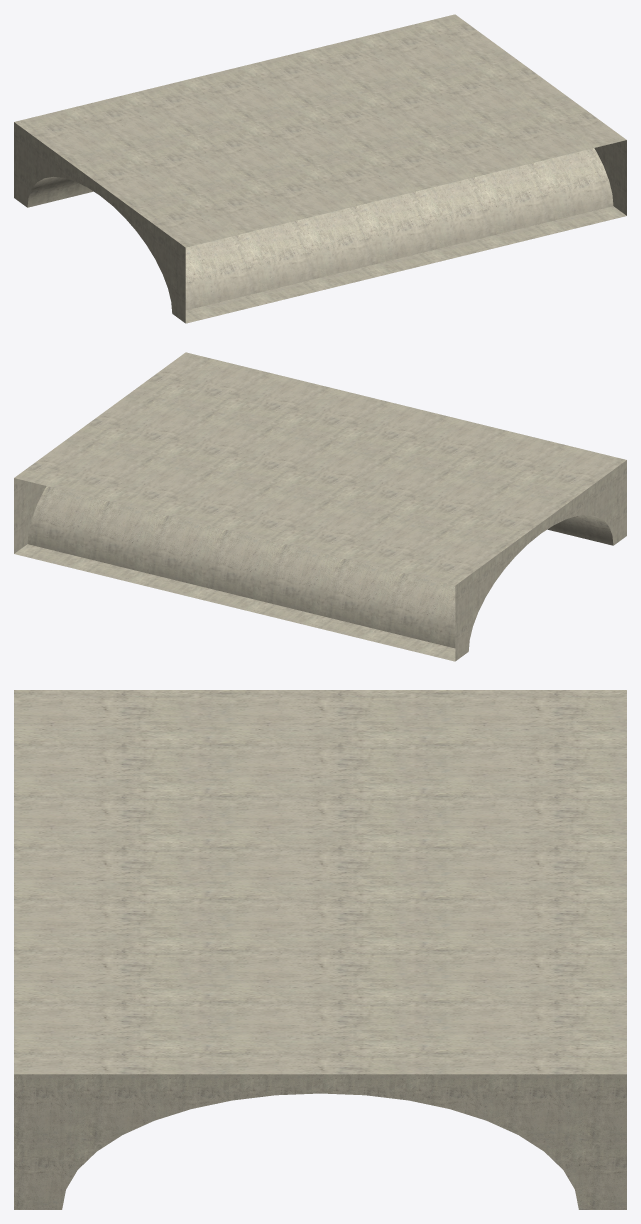
File: BridgeBase8-6L-40M.FBX
3 views of the same model, one above another, from view 1: azimuth 30°, elevation 25°; view 2: azimuth 150°, elevation 25°; view 3: azimuth 270°, elevation 25° (orthographic). The views are drawn at different scales.
Visible parts, largest first — view 1: BridgeBase8-6L-40M; view 2: BridgeBase8-6L-40M; view 3: BridgeBase8-6L-40M.
Part boxes in pixels (<box>): BridgeBase8-6L-40M: <box>14,14,626,323</box>; BridgeBase8-6L-40M: <box>14,352,626,661</box>; BridgeBase8-6L-40M: <box>14,690,626,1209</box>.
Bounding box in the file's own units: 38 × 6.25 × 25.62.
